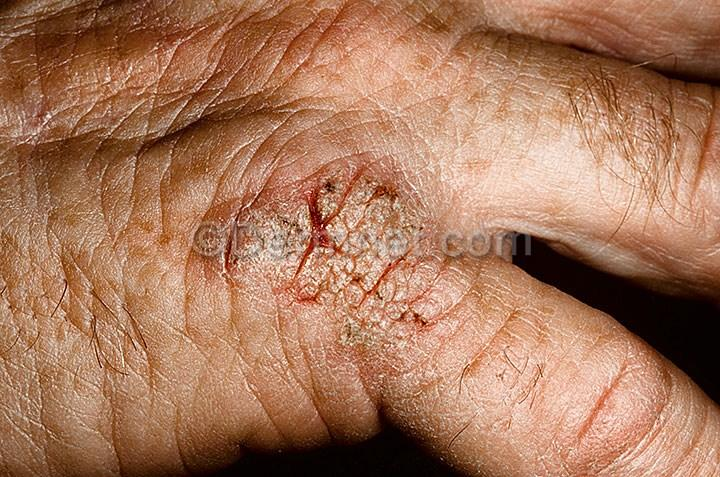Eczema: (174, 135, 480, 374), (0, 218, 177, 361), (0, 26, 155, 156), (209, 4, 376, 91), (422, 36, 536, 131)
